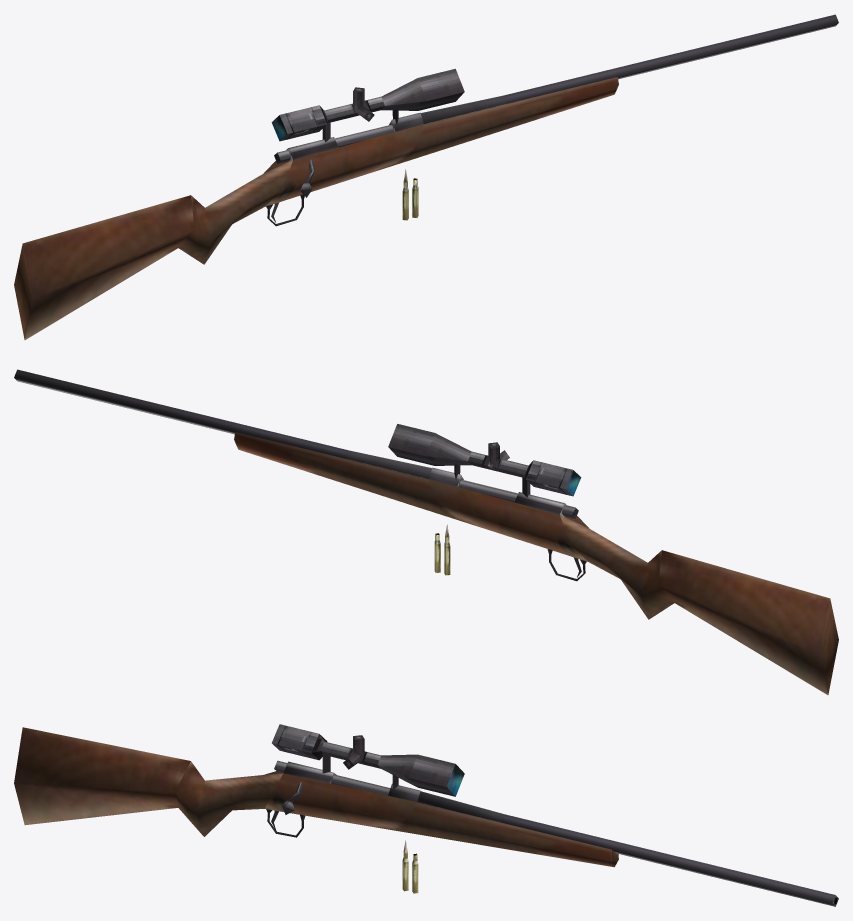
The model's file is HuntingRifle.obj.
3 views of the same model, one above another, from view 1: azimuth 30°, elevation 25°; view 2: azimuth 150°, elevation 25°; view 3: azimuth 330°, elevation 25° (orthographic).
Visible parts, largest first — view 1: BARilfeBody&Barrel, BARifleScope, BARifleBolt; view 2: BARilfeBody&Barrel, BARifleScope, BARifleBolt; view 3: BARilfeBody&Barrel, BARifleScope, BARifleBolt.
Part boxes in pixels (x1,y1,x2,y2): BARilfeBody&Barrel: (14, 14, 838, 339); BARifleScope: (271, 68, 464, 142); BARifleBolt: (274, 124, 394, 197); BARilfeBody&Barrel: (14, 369, 838, 694); BARifleScope: (388, 424, 581, 497); BARifleBolt: (458, 479, 578, 518); BARilfeBody&Barrel: (14, 727, 838, 906); BARifleScope: (272, 724, 464, 796); BARifleBolt: (274, 760, 390, 814).
Bounding box in the file's own units: 8.94 × 1.78 × 0.4137.
4 materials, 4 textured.
